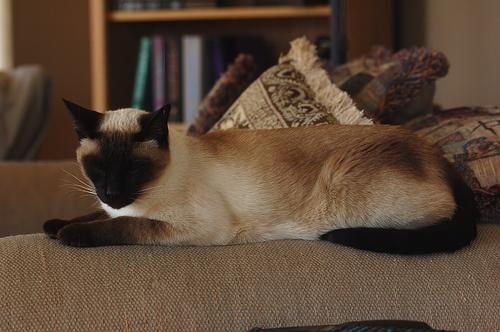cat: (43, 98, 481, 257)
